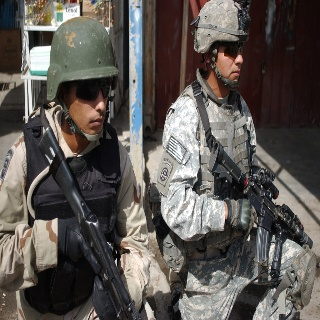rifle: (37, 124, 137, 320), (205, 139, 316, 278)
